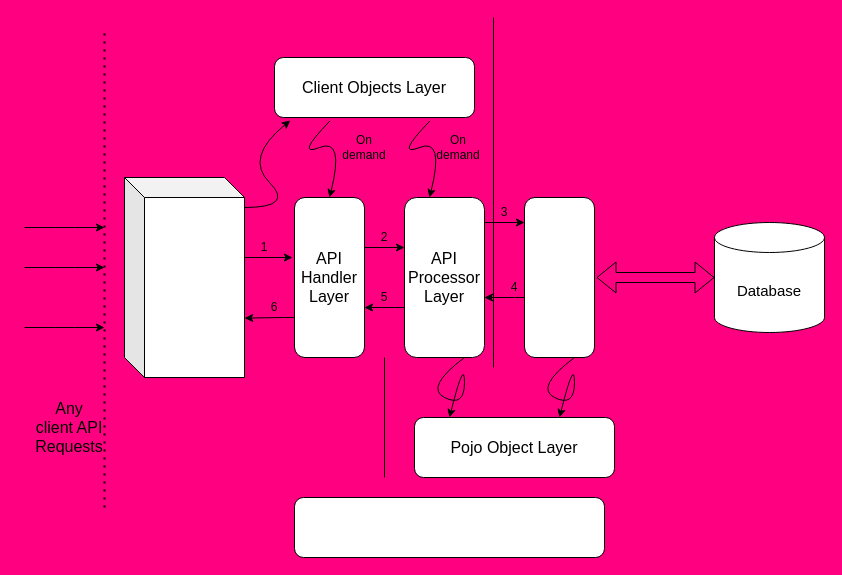
Some shapes in this 842 by 575 pixel diagram are drawn without their labels. The centre of each missing label's shape, as x and y in pixels:
"App Server Layer" belongs at point (184, 277).
"Handler Layer" belongs at point (559, 277).
"Utils Objects" belongs at point (449, 527).
